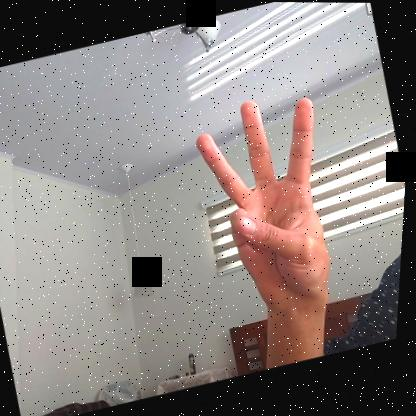W: (178, 82, 365, 328)
